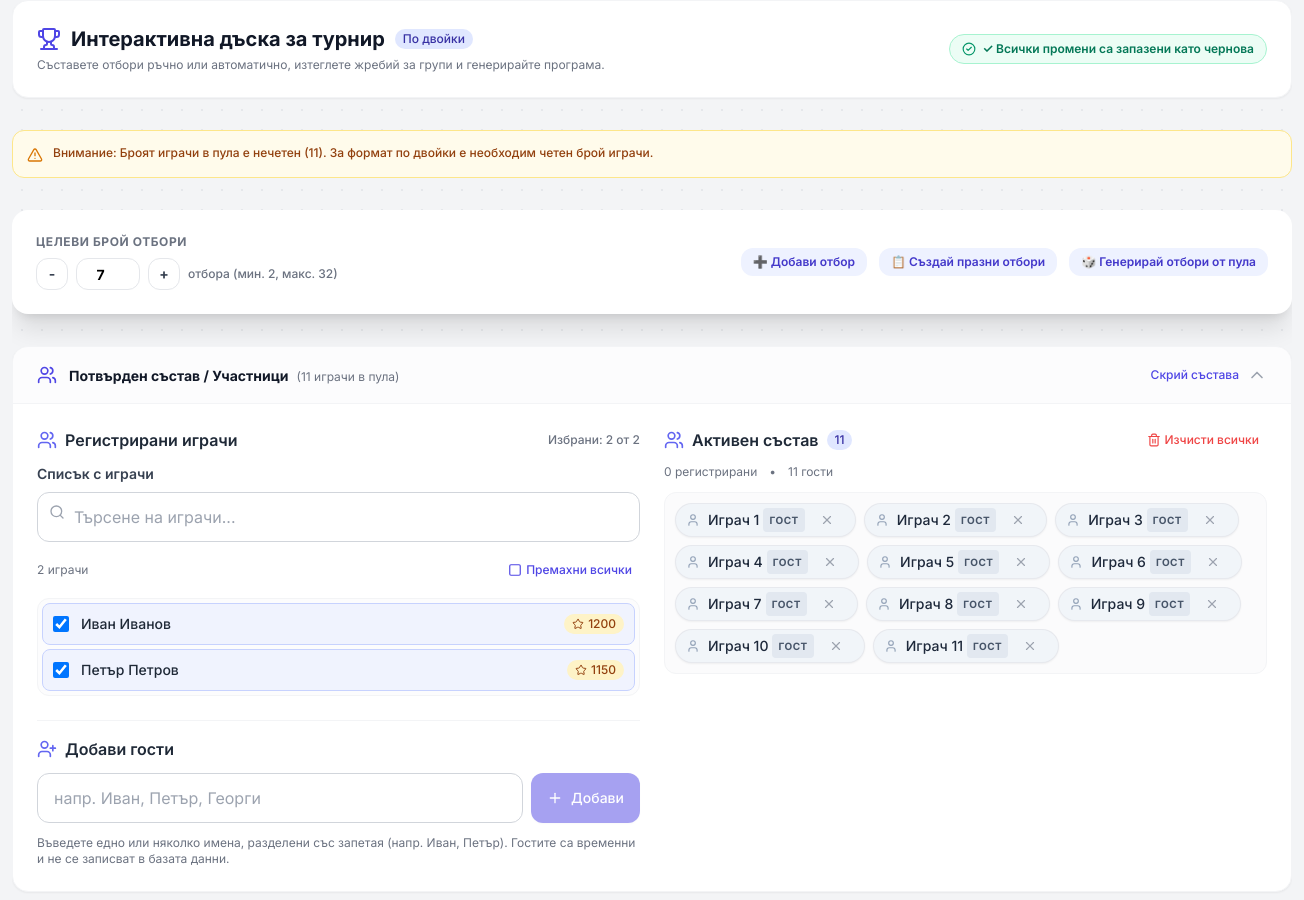
Test: TournamentInteractiveBoard Component › Universal Mathematical Validation & Auto-Adjustment › P = 11, T = 7 (Case 5 with reserve): adapts target teams to 5 teams + 1 reserve banner
Click the button "🎲 Генерирай отбори от пула" at coordinates (1169, 262), box 1069,248 -> 1268,276
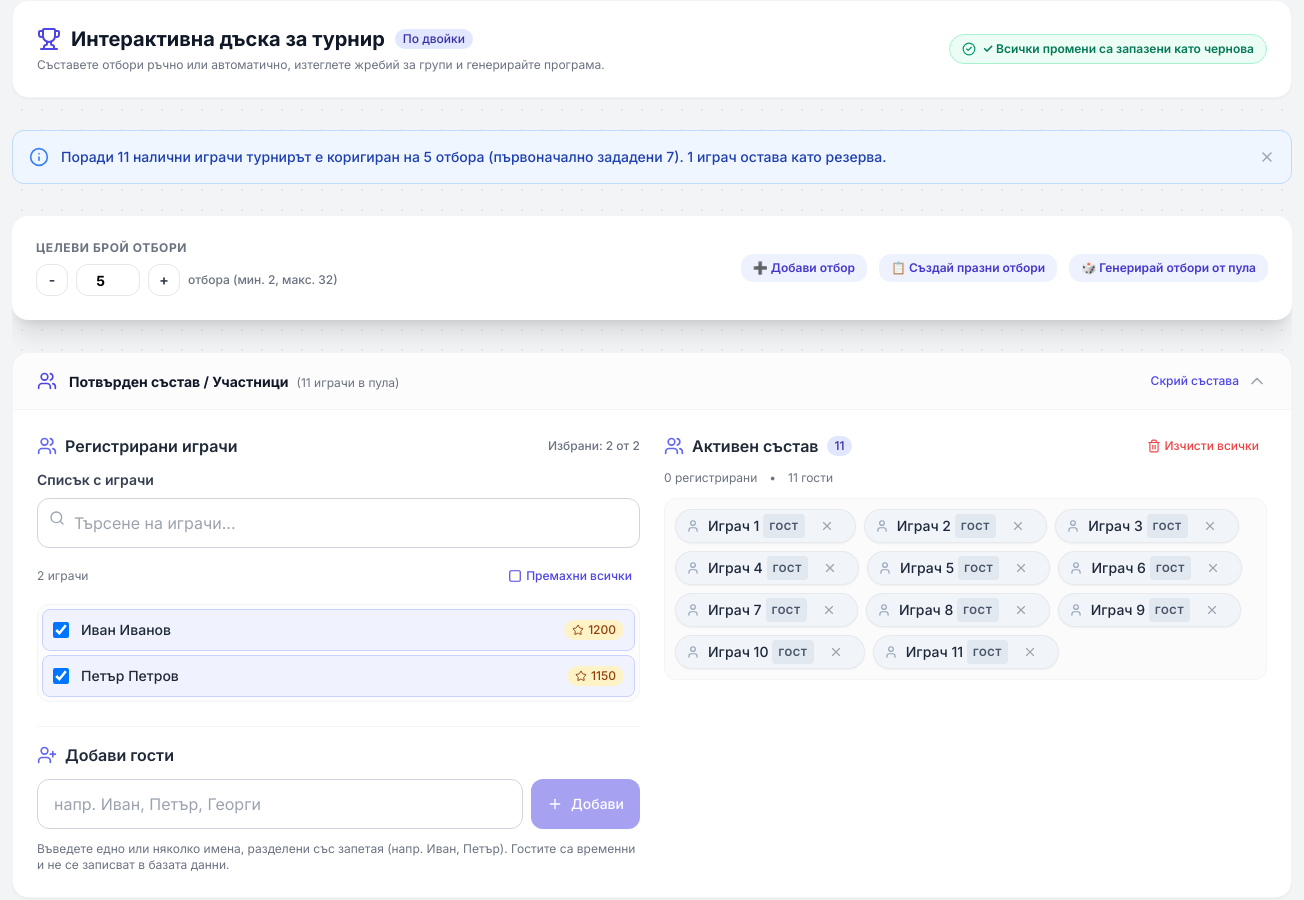
Now the number field labelled "Целеви брой отбори" holds "5", box 76,264 -> 140,296
Now the text "Поради 11 налични играчи турнирът е коригиран на 5 отбора (първоначално зададени 7). 1 играч остава като резерва." is shown, box 61,148 -> 886,165
